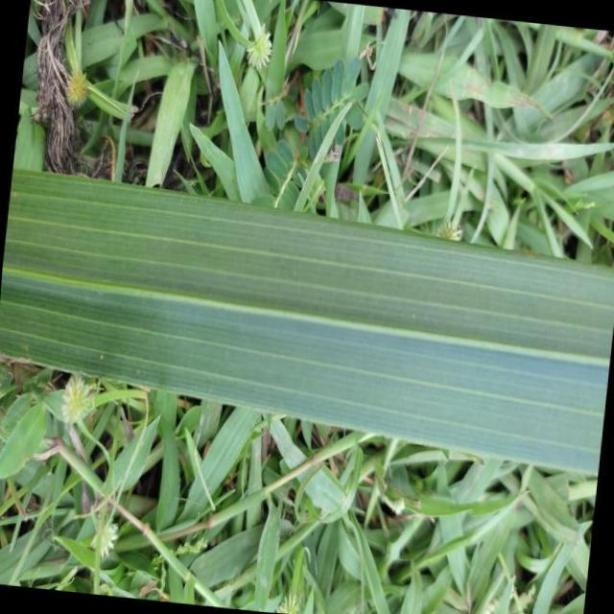Healthy: (3, 171, 606, 472)
